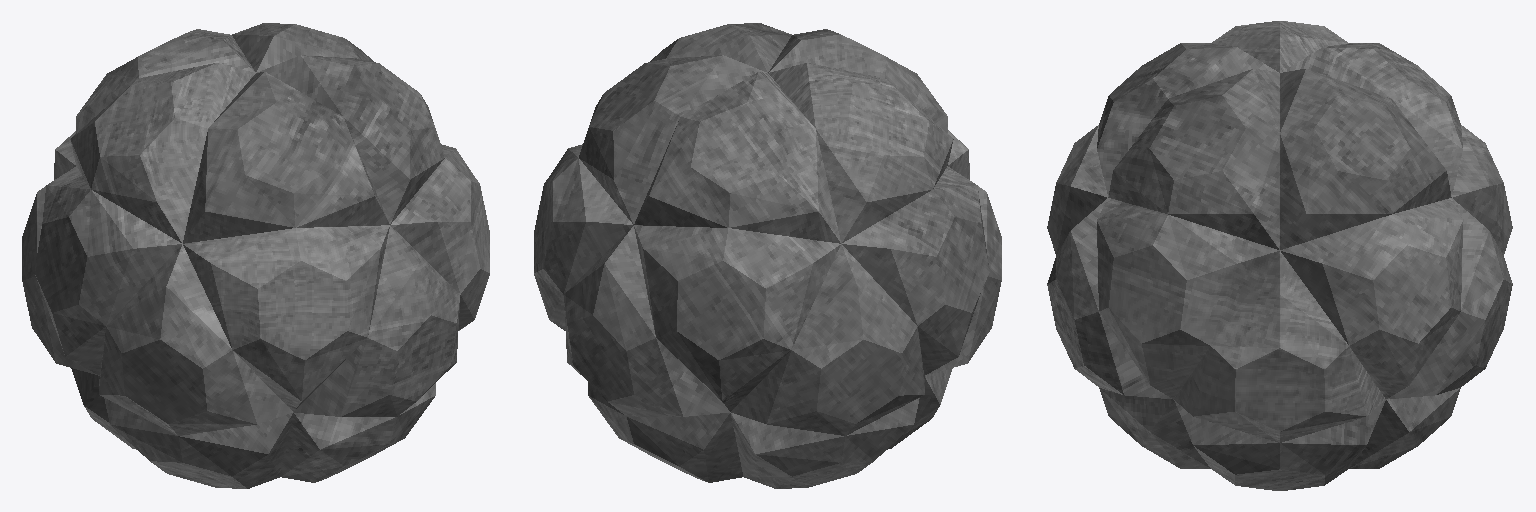
3 renders of one model, left to right at view 1: azimuth 30°, elevation 25°; view 2: azimuth 150°, elevation 25°; view 3: azimuth 270°, elevation 25°, orthographic.
Bounding box in the file's own units: 3.47 × 3.3 × 3.43.
1 materials, 1 textured.